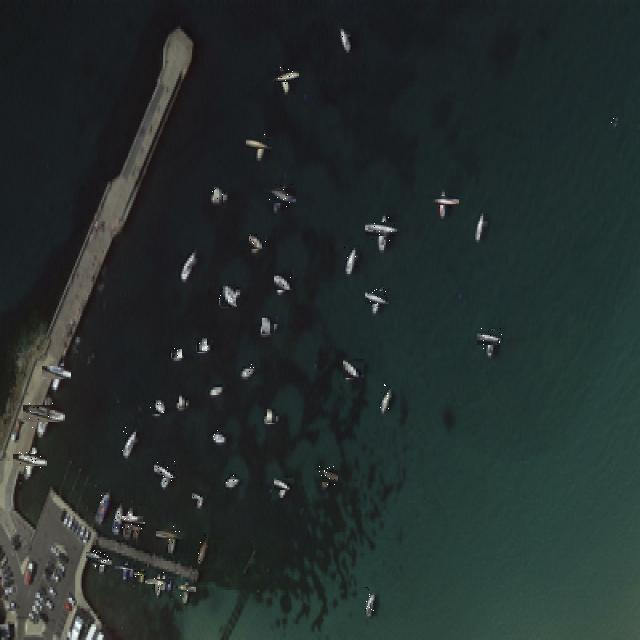boat: (29, 398, 59, 428), (370, 216, 396, 242), (179, 245, 197, 279), (268, 183, 292, 207), (94, 484, 110, 518), (19, 448, 42, 471), (480, 328, 502, 349), (46, 362, 68, 383), (474, 208, 488, 240), (122, 424, 136, 456), (274, 66, 294, 87), (250, 133, 270, 154), (157, 461, 177, 482), (161, 524, 181, 545), (433, 190, 453, 210), (220, 285, 240, 305), (344, 358, 364, 378), (117, 509, 137, 529), (110, 500, 122, 532), (368, 288, 388, 307), (344, 245, 358, 271), (318, 466, 336, 485), (274, 273, 292, 291), (249, 232, 266, 250), (276, 476, 292, 493), (380, 384, 390, 411), (197, 532, 206, 561), (340, 24, 350, 50), (365, 587, 374, 614), (260, 318, 276, 333), (177, 581, 193, 596), (150, 574, 165, 590), (128, 519, 142, 534), (150, 400, 165, 414), (94, 554, 109, 568), (212, 188, 225, 202), (89, 549, 103, 562), (211, 429, 226, 440), (196, 339, 209, 351), (240, 363, 254, 374), (224, 474, 238, 485), (265, 410, 277, 422), (193, 489, 205, 501), (208, 382, 222, 392), (118, 562, 130, 573), (177, 396, 188, 407), (172, 348, 182, 358), (126, 563, 135, 572), (160, 572, 165, 588), (135, 569, 145, 577), (164, 576, 172, 585), (611, 116, 618, 124)
